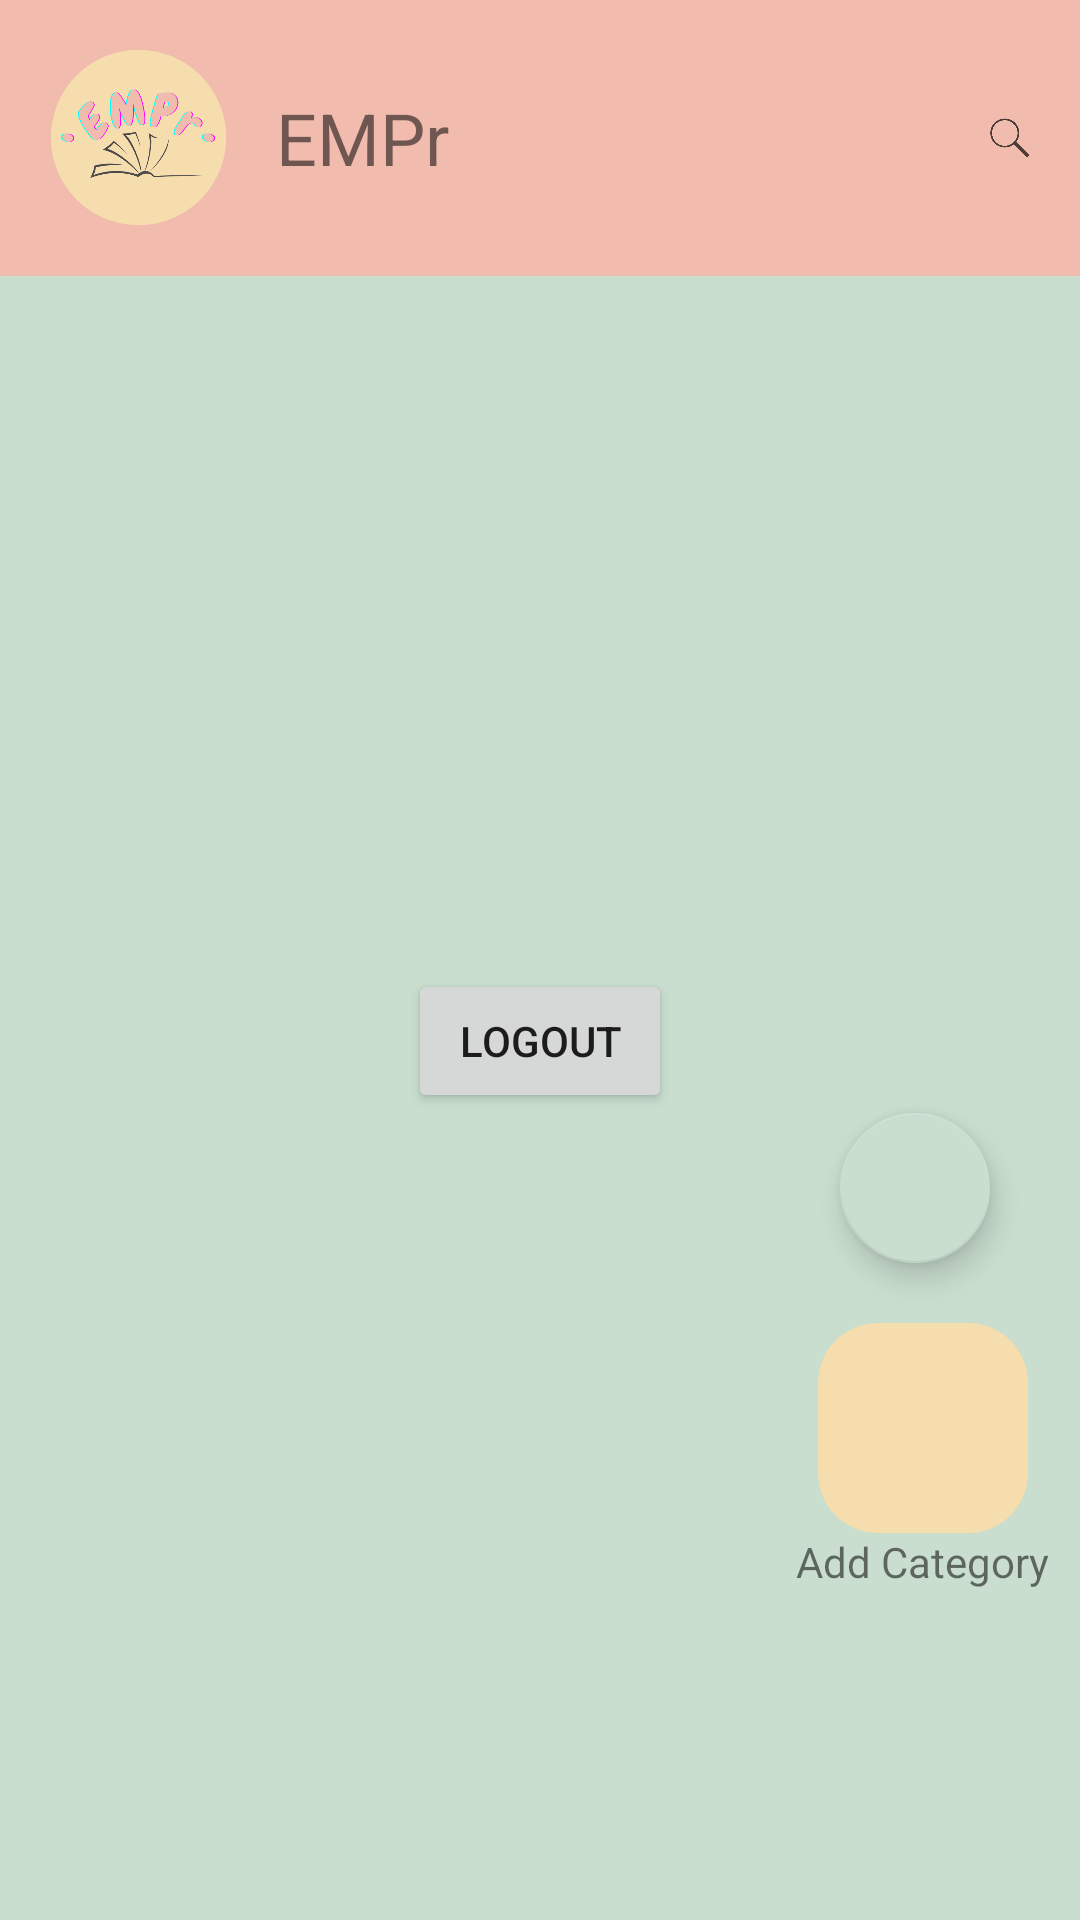

Icons on this 1080 × 1920 Android screen, each with its box as [left=x1, top=y1, right=x2, bottom=y2]:
search: [left=990, top=118, right=1029, bottom=157]
